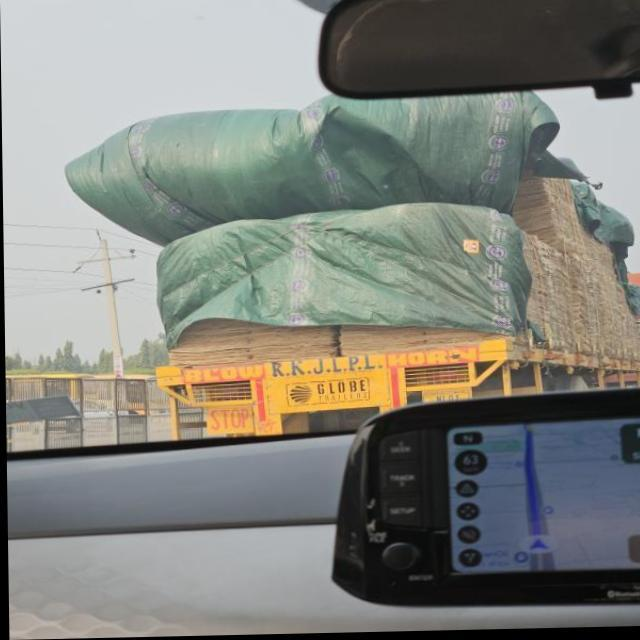uncovered: (94, 94, 639, 418)
